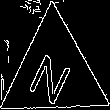N_NE: (28, 40, 80, 103)
